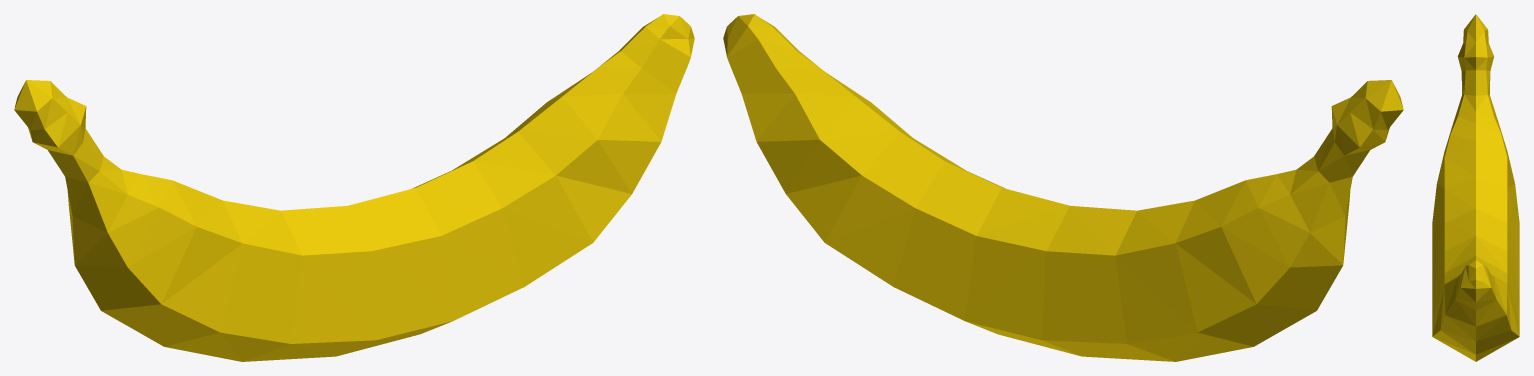
The model's file is banana-for-scale.dae.
3 views of the same model, side by side, from view 1: azimuth 30°, elevation 25°; view 2: azimuth 150°, elevation 25°; view 3: azimuth 270°, elevation 25° (orthographic). The views are drawn at different scales.
Parts seen in each view (by area): view 1: banana; view 2: banana; view 3: banana.
Boxes of the visible parts, x1,y1,x2,y2 form: banana: (14,14,694,361); banana: (723,14,1403,361); banana: (1432,14,1519,361).
Size of the model in its own units: 0.2003 by 0.0364 by 0.0991.
